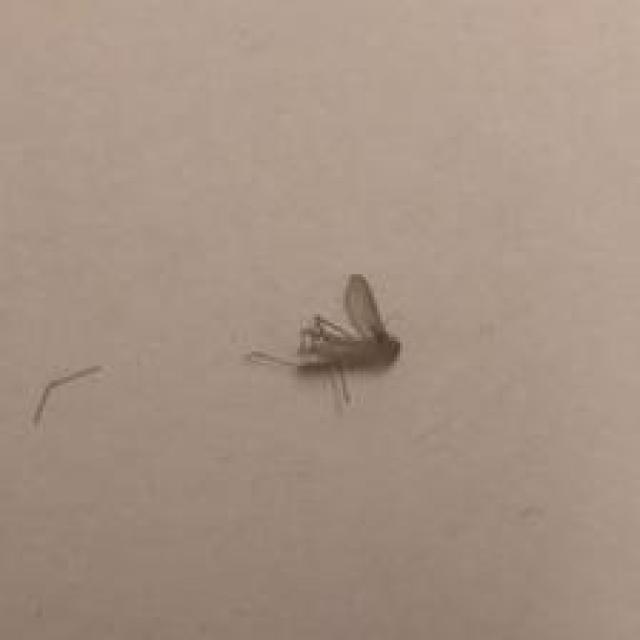Culex: (244, 272, 402, 412)
